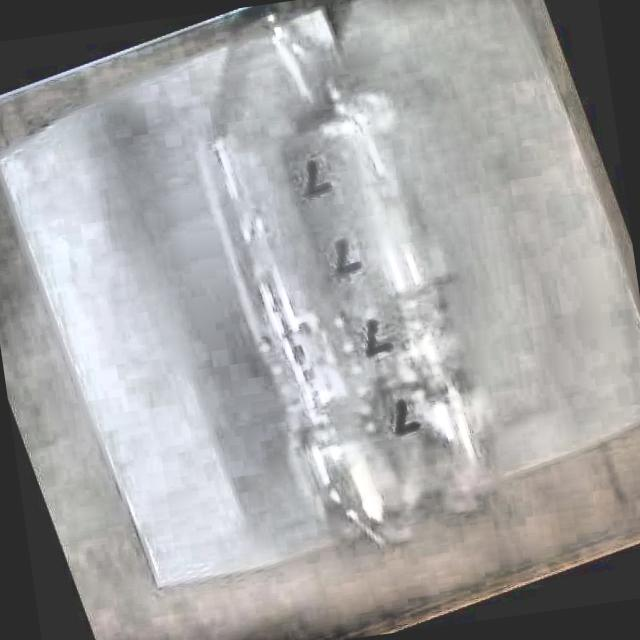plastic bottle: (206, 4, 500, 551)
